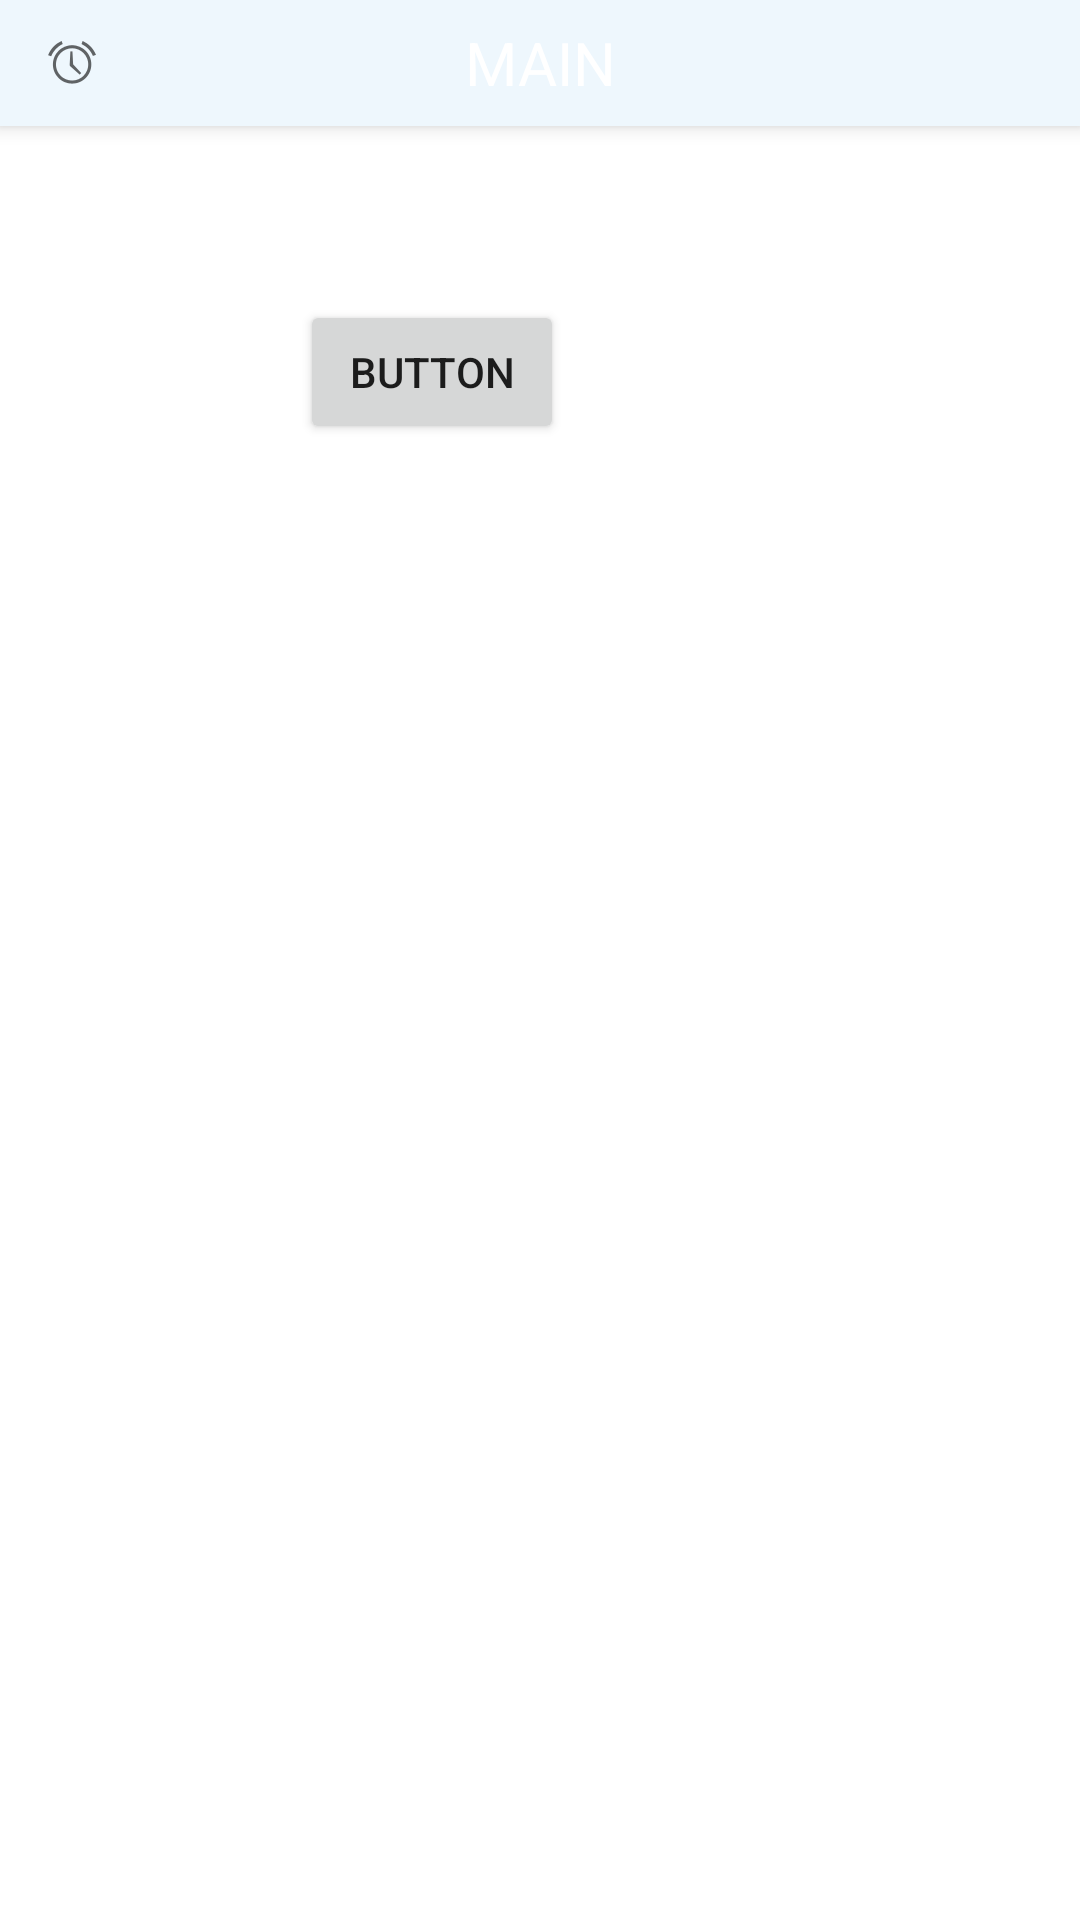

Where to tap for icons on this 1080×1920 app screen, as (x,y):
lock idle alarm: (72,62)
